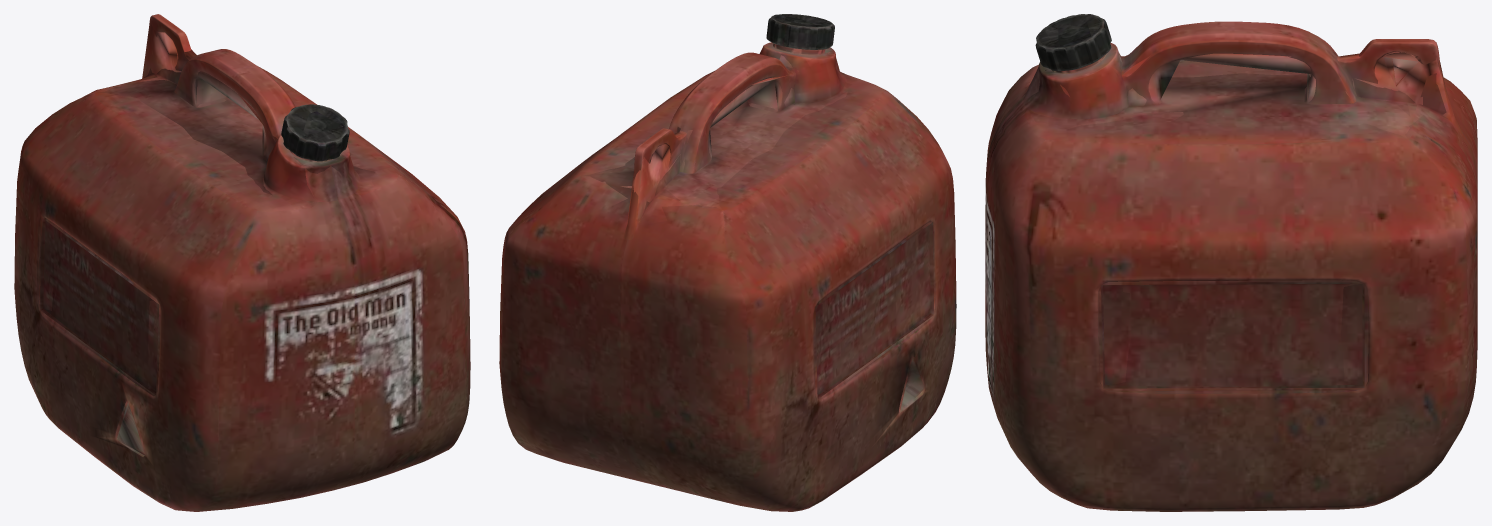
File: plastic_jerrycan.glb
The picture shows the model from 3 angles, left to right: view 1: azimuth 30°, elevation 25°; view 2: azimuth 150°, elevation 25°; view 3: azimuth 270°, elevation 25°; orthographic projection. The views are drawn at different scales.
Parts seen in each view (by area): view 1: plastic_jerrycan, plastic_jerrycan_lo; view 2: plastic_jerrycan, plastic_jerrycan_lo; view 3: plastic_jerrycan, plastic_jerrycan_lo.
Part boxes in pixels (x1,y1,x2,y2): plastic_jerrycan: [14, 14, 470, 511]; plastic_jerrycan_lo: [39, 19, 375, 454]; plastic_jerrycan: [499, 14, 956, 511]; plastic_jerrycan_lo: [581, 14, 934, 412]; plastic_jerrycan: [985, 14, 1477, 511]; plastic_jerrycan_lo: [1023, 15, 1451, 390].
Bounding box in the file's own units: 0.268 × 0.3184 × 0.3409.
1 material, 1 textured.
